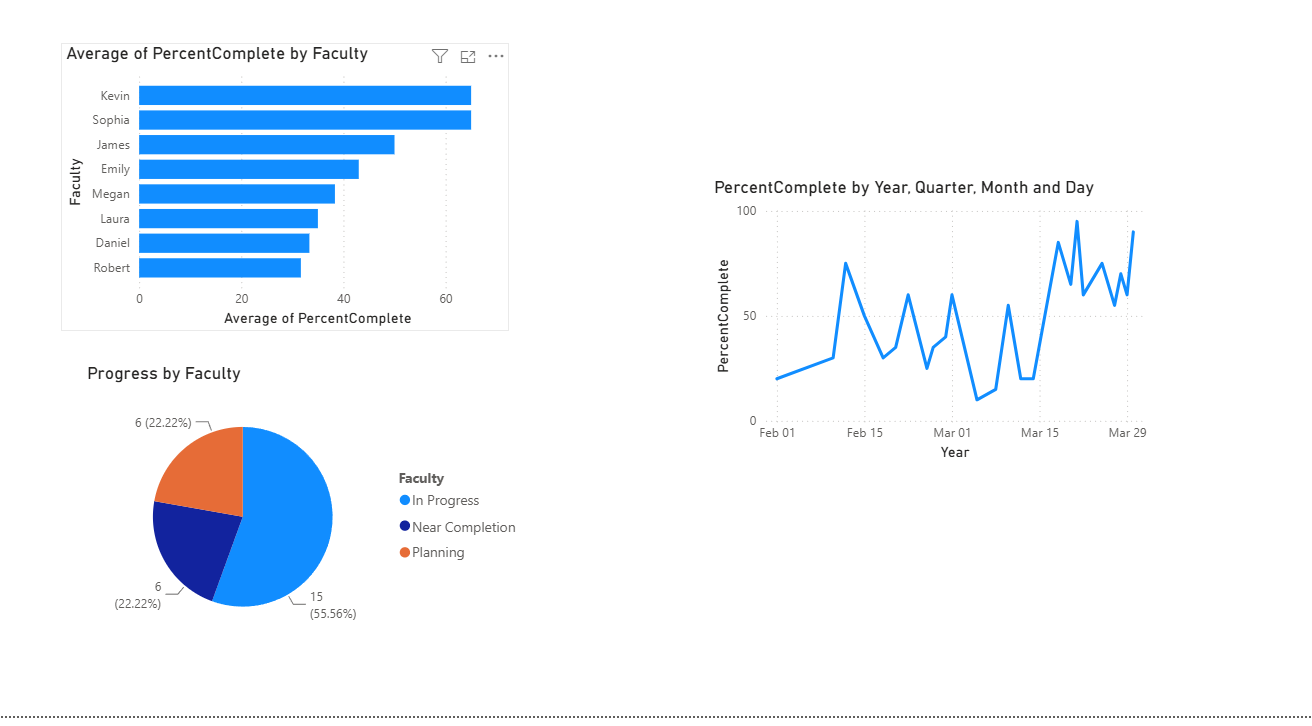

This screenshot's page, from the dashboard's own definition file:
{"tool":"powerbi","page":{"name":"Page 1","canvas":[1280,720],"ordinal":0},"visuals":[{"type":"barChart","fields":{"Y":["Avg(ProgressUpdates.PercentComplete)"],"Category":["Faculty.FirstName"]},"box":[63.2,65.2,435.7,280.1],"z":0},{"type":"pieChart","fields":{"Category":["Goals.Status"],"Y":["CountNonNull(ProgressUpdates.ProgressID)"]},"box":[83.6,376.4,435.7,280.1],"z":1000},{"type":"lineChart","fields":{"Y":["Sum(ProgressUpdates.PercentComplete)"],"Category":["ProgressUpdates.UpdateDate.Variation.Date Hierarchy.Year","ProgressUpdates.UpdateDate.Variation.Date Hierarchy.Quarter","ProgressUpdates.UpdateDate.Variation.Date Hierarchy.Month","ProgressUpdates.UpdateDate.Variation.Date Hierarchy.Day"]},"box":[693.5,195.5,436.7,280.1],"z":2000}]}

Visuals, with their boxes in screenshot pixels (x1, y1, x2, y2), scaled from the page's 1280x720 canvas onto the 1312x726 screenshot:
barChart - Avg(ProgressUpdates.PercentComplete) x Faculty.FirstName: region(65, 66, 511, 348)
pieChart - Goals.Status x CountNonNull(ProgressUpdates.ProgressID): region(86, 380, 532, 662)
lineChart - Sum(ProgressUpdates.PercentComplete) x ProgressUpdates.UpdateDate.Variation.Date Hierarchy.Year: region(711, 197, 1158, 480)
